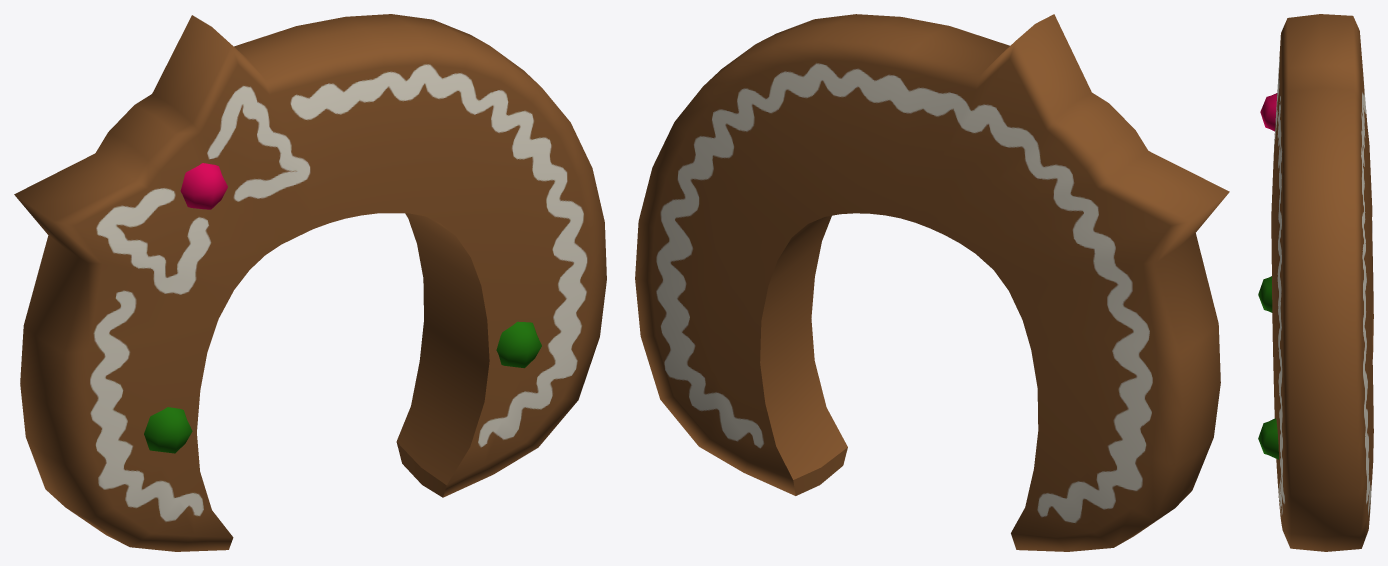
File: 39姜饼帽.fbx
3 renders of one model, left to right at view 1: azimuth 30°, elevation 25°; view 2: azimuth 150°, elevation 25°; view 3: azimuth 270°, elevation 25°, orthographic. The views are drawn at different scales.
Visible parts, largest first — view 1: 39姜饼帽; view 2: 39姜饼帽; view 3: 39姜饼帽.
Boxes of the visible parts, <box> form: 39姜饼帽: <box>14,14,606,551</box>; 39姜饼帽: <box>635,14,1229,551</box>; 39姜饼帽: <box>1258,14,1373,551</box>.
Bounding box in the file's own units: 0.7037 × 0.6159 × 0.1496.
